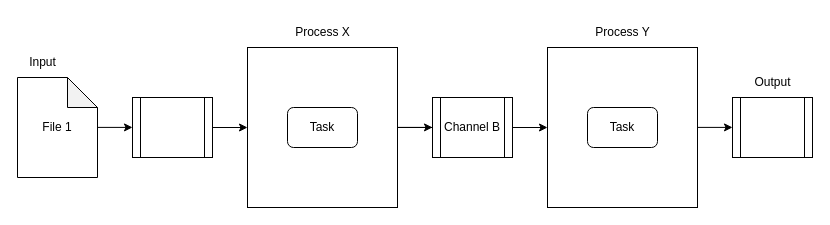
This 830x225 diagram has some shape labels left out. Each missing label, with the centre of its shape:
Channel A: point 172,127
Channel C: point 772,127
